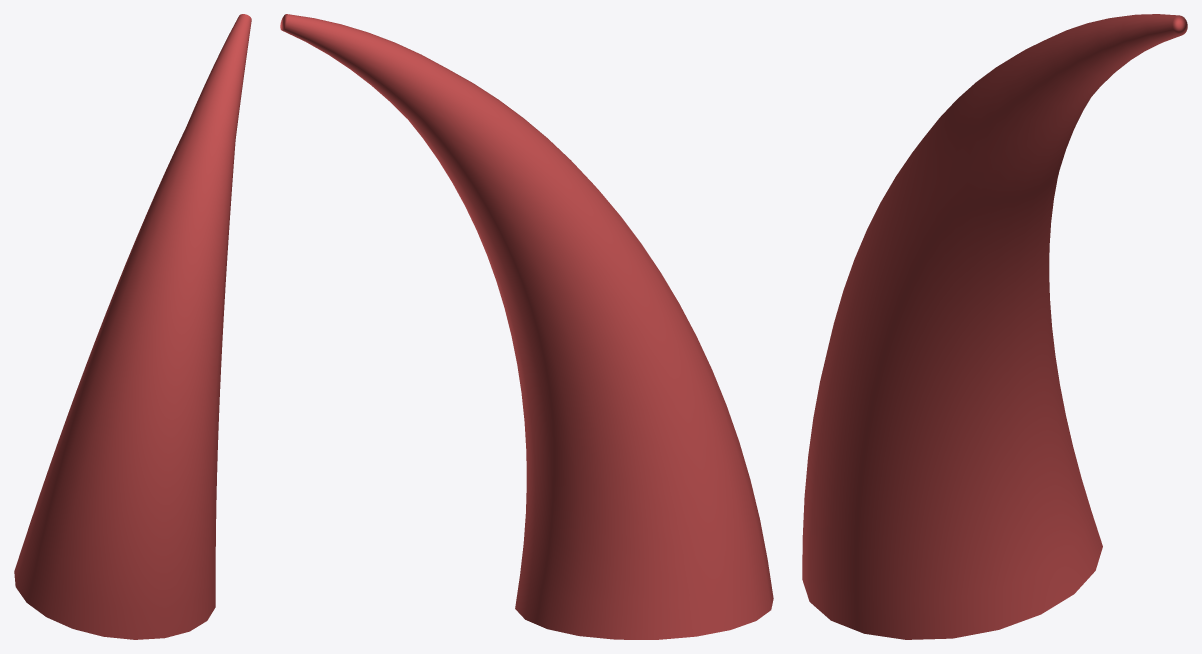
File: devil_horn_l.glb
3 renders of one model, left to right at view 1: azimuth 30°, elevation 25°; view 2: azimuth 150°, elevation 25°; view 3: azimuth 270°, elevation 25°, orthographic. The views are drawn at different scales.
Bounding box in the file's own units: 0.0406 × 0.0625 × 0.0305.
